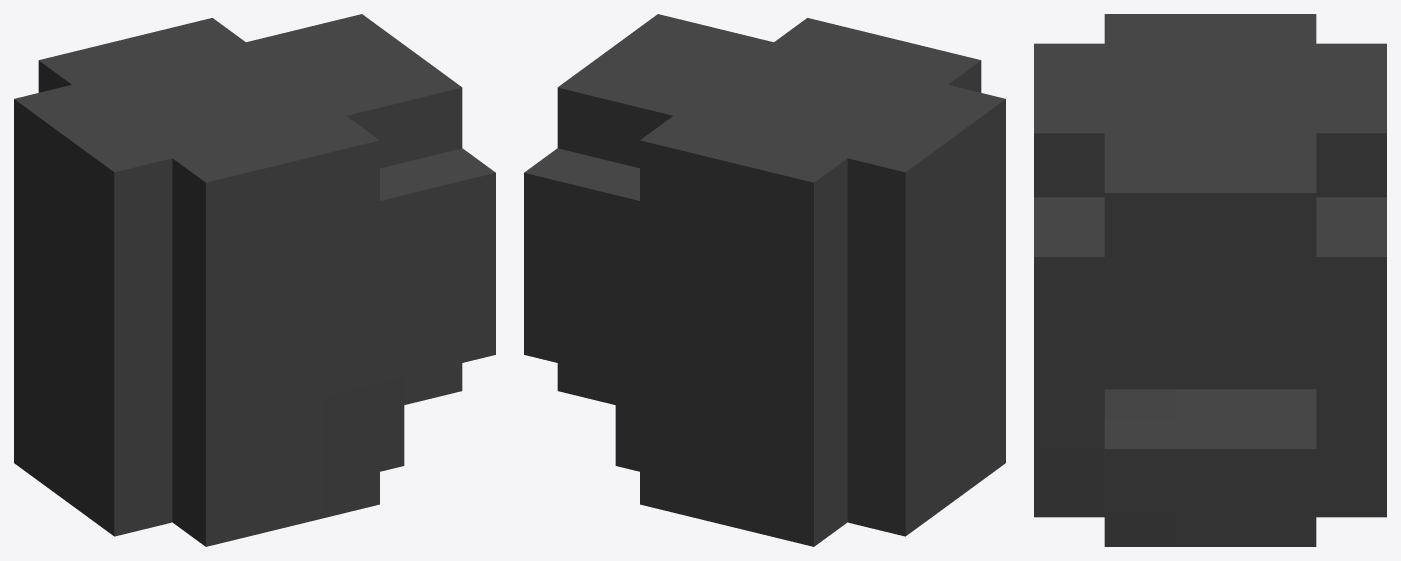
Rendered from Decor-27.obj.
The picture shows the model from 3 angles, left to right: view 1: azimuth 30°, elevation 25°; view 2: azimuth 150°, elevation 25°; view 3: azimuth 270°, elevation 25°; orthographic projection. The views are drawn at different scales.
Size of the model in its own units: 0.6 by 0.6 by 0.5.
Materials: 1 (1 with a texture image).
